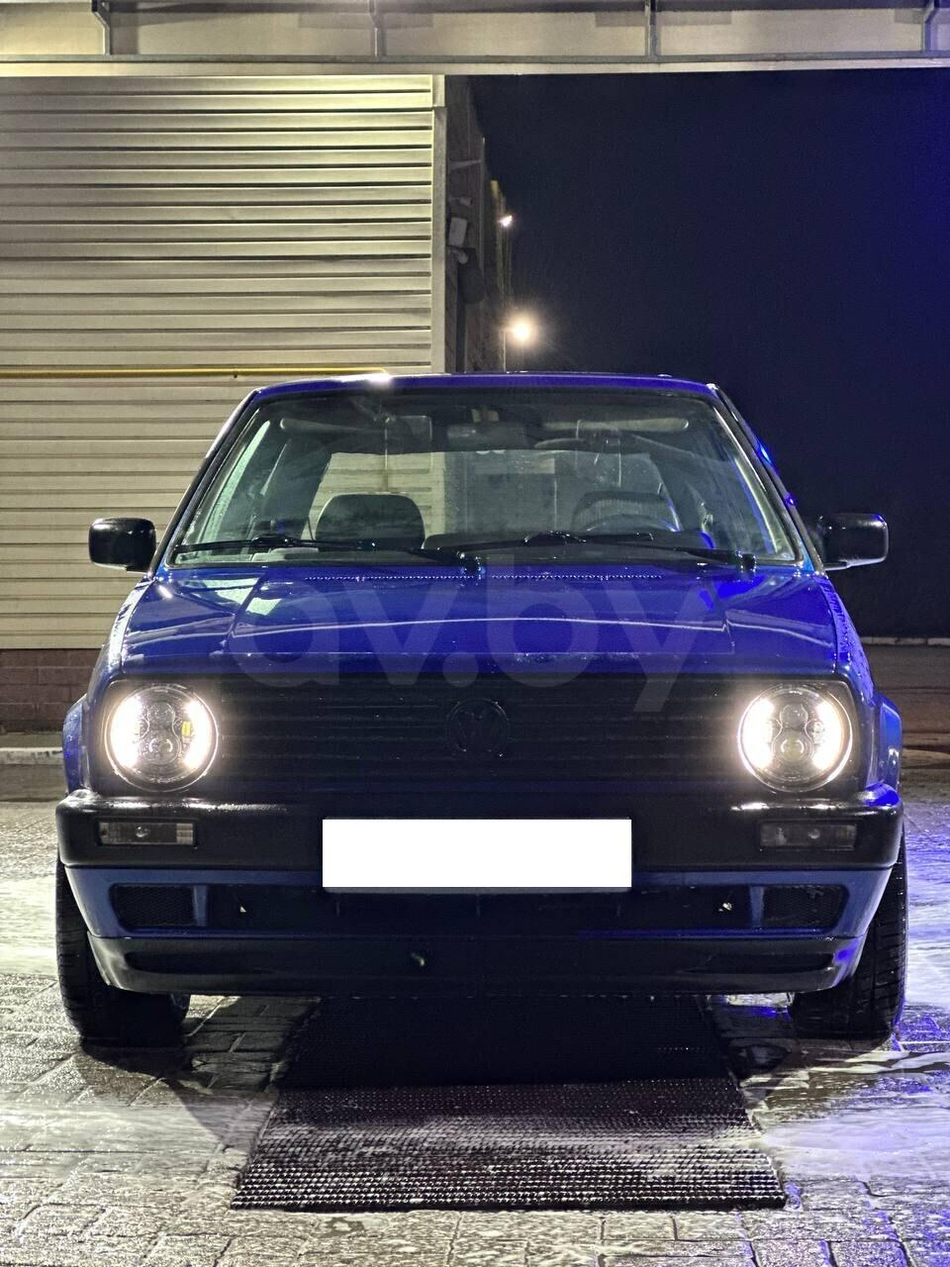Golf_1983-1992: (35, 363, 929, 1084)
